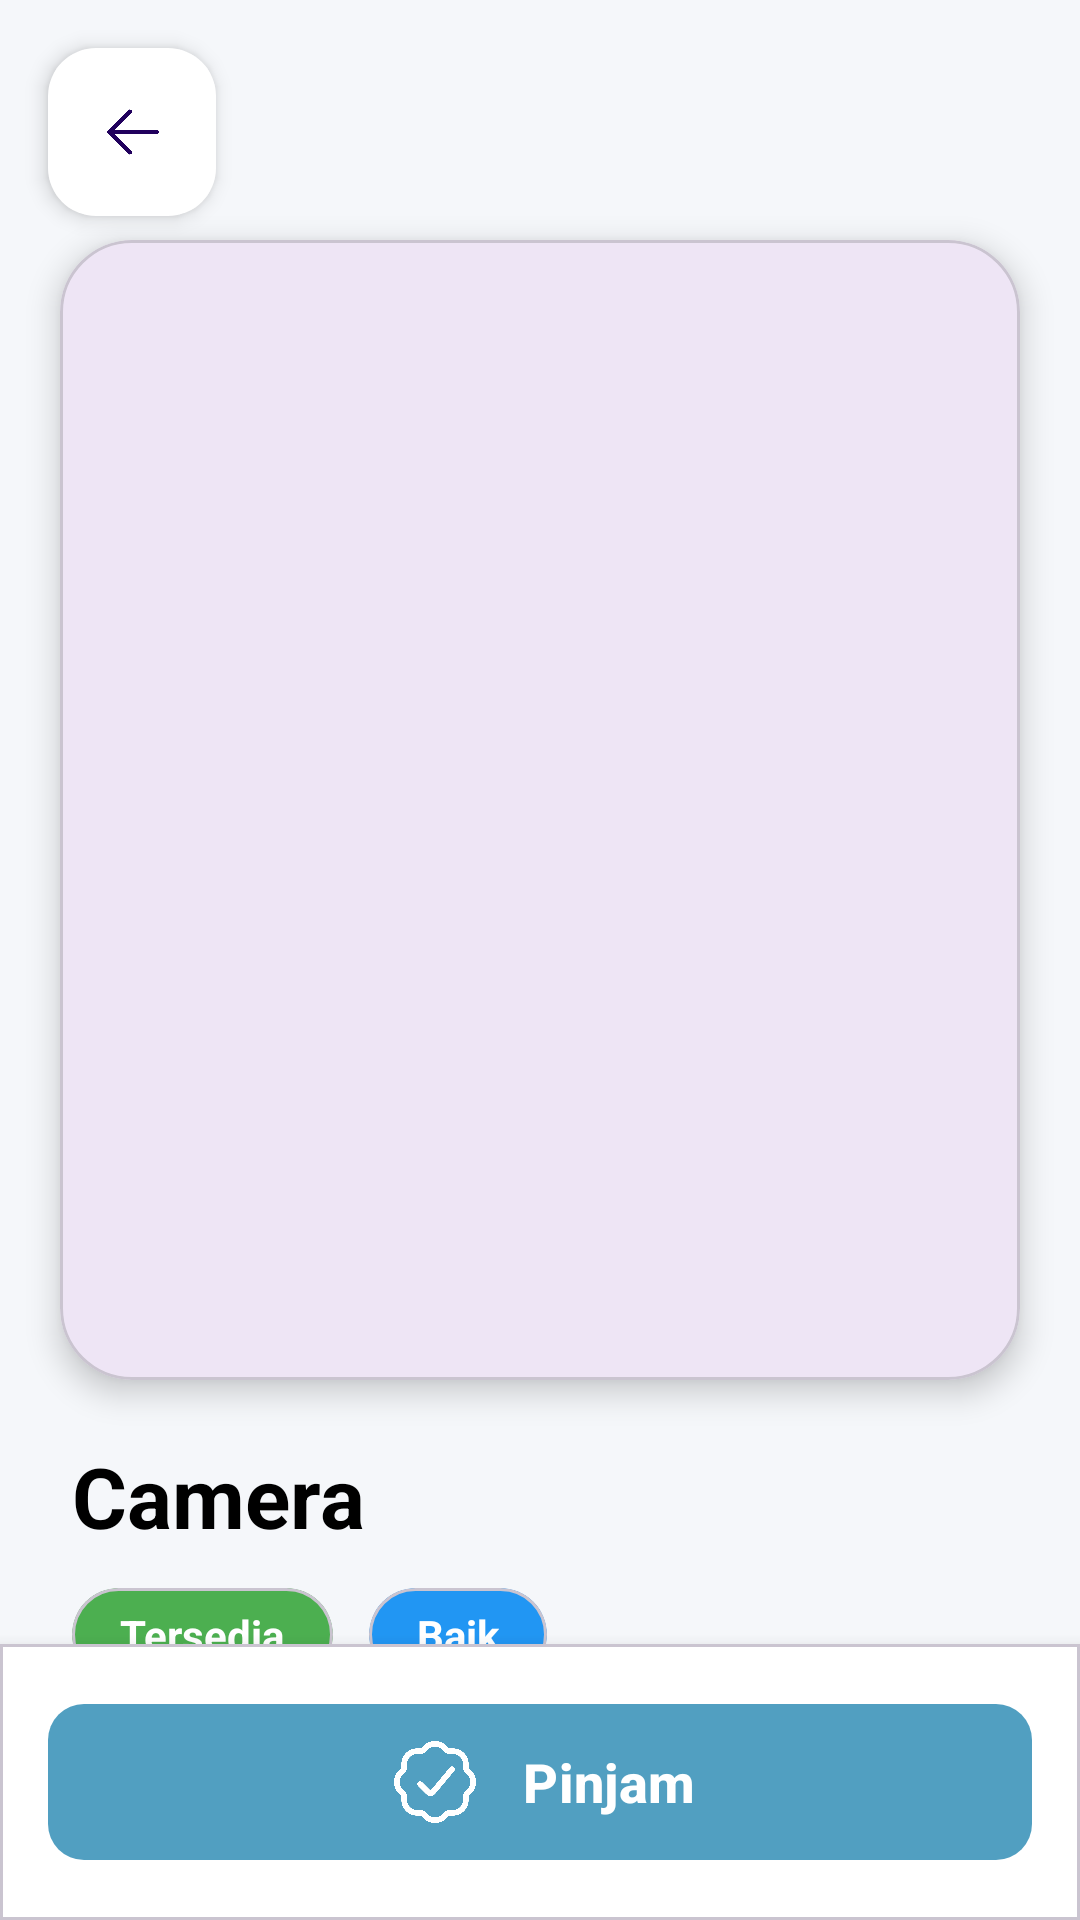

Screen size 1080*1920. Icon name, then its center in pixels as (x=x, y=y):
back: (x=132, y=132)
